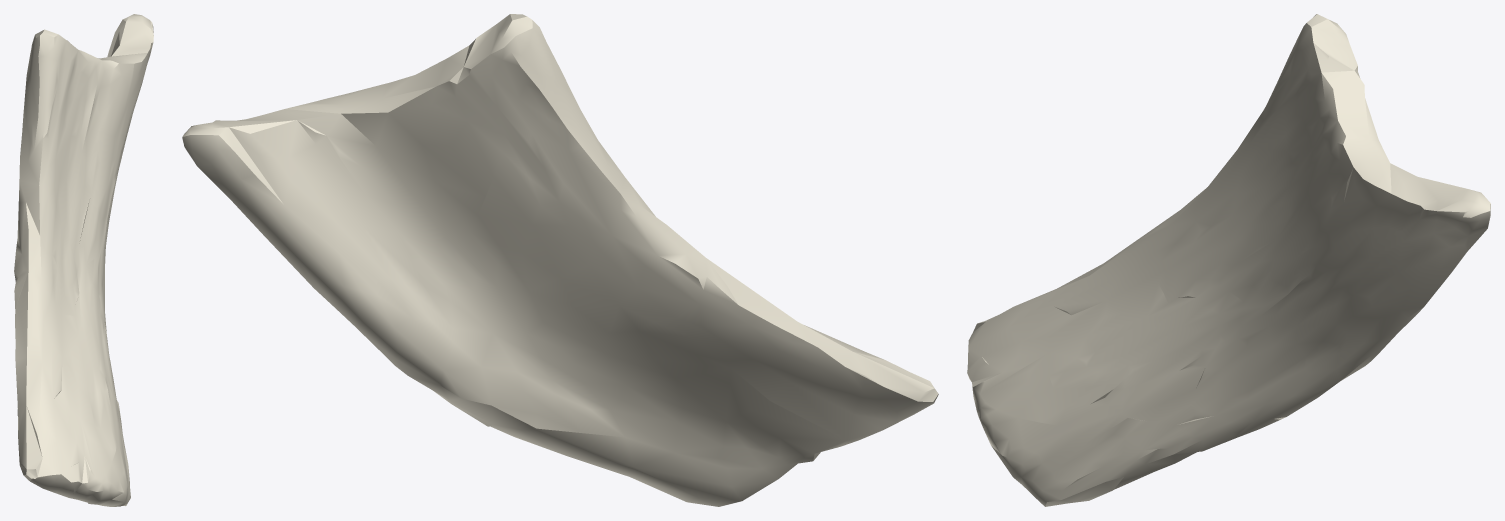
The model's file is fma44072_mm1362m.glb.
The picture shows the model from 3 angles, left to right: view 1: azimuth 30°, elevation 25°; view 2: azimuth 150°, elevation 25°; view 3: azimuth 270°, elevation 25°; orthographic projection. The views are drawn at different scales.
Parts seen in each view (by area): view 1: FMA44072_MM1362M; view 2: FMA44072_MM1362M; view 3: FMA44072_MM1362M.
Boxes of the visible parts, x1=… form: FMA44072_MM1362M: x1=14, y1=14, x2=153, y2=506; FMA44072_MM1362M: x1=182, y1=14, x2=938, y2=506; FMA44072_MM1362M: x1=967, y1=14, x2=1490, y2=506.
Bounding box in the file's own units: 0.0205 × 0.0246 × 0.0229.
